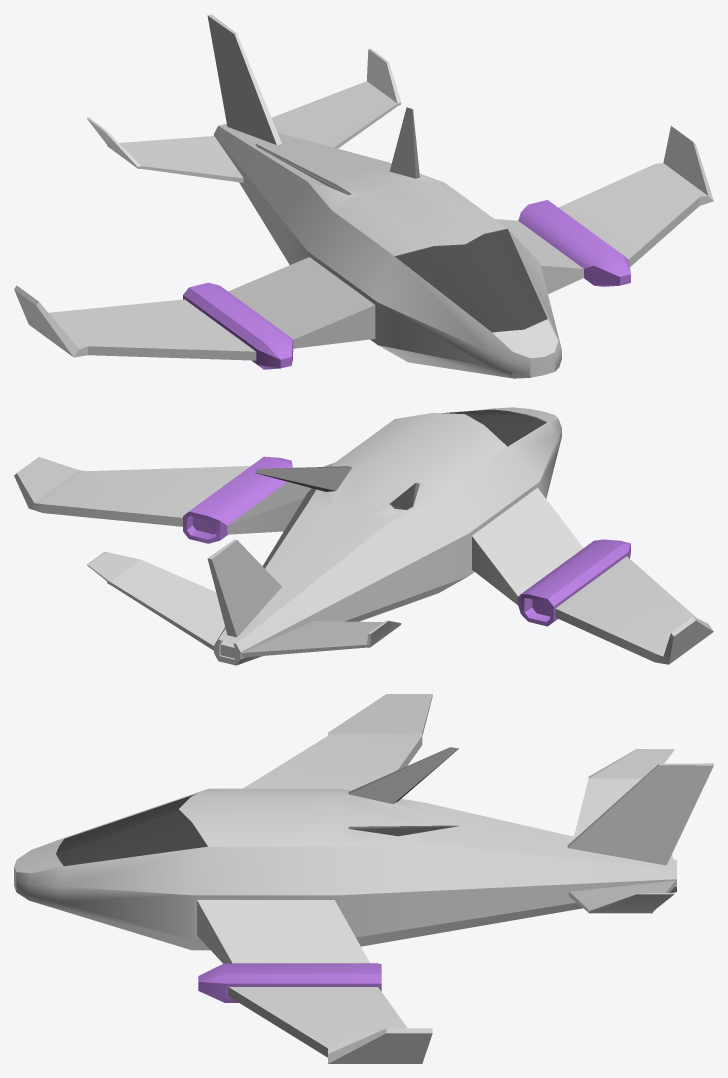
Rendered from ship_20.fbx.
3 views of the same model, one above another, from view 1: azimuth 30°, elevation 25°; view 2: azimuth 150°, elevation 25°; view 3: azimuth 270°, elevation 25° (orthographic). The views are drawn at different scales.
Visible parts, largest first — view 1: ship_20; view 2: ship_20; view 3: ship_20.
Part boxes in pixels (box(x1,y1,x2,y2)): ship_20: box(14, 14, 713, 378); ship_20: box(14, 407, 713, 665); ship_20: box(14, 694, 713, 1063).
Size of the model in its own units: 1294 by 286 by 1135.
